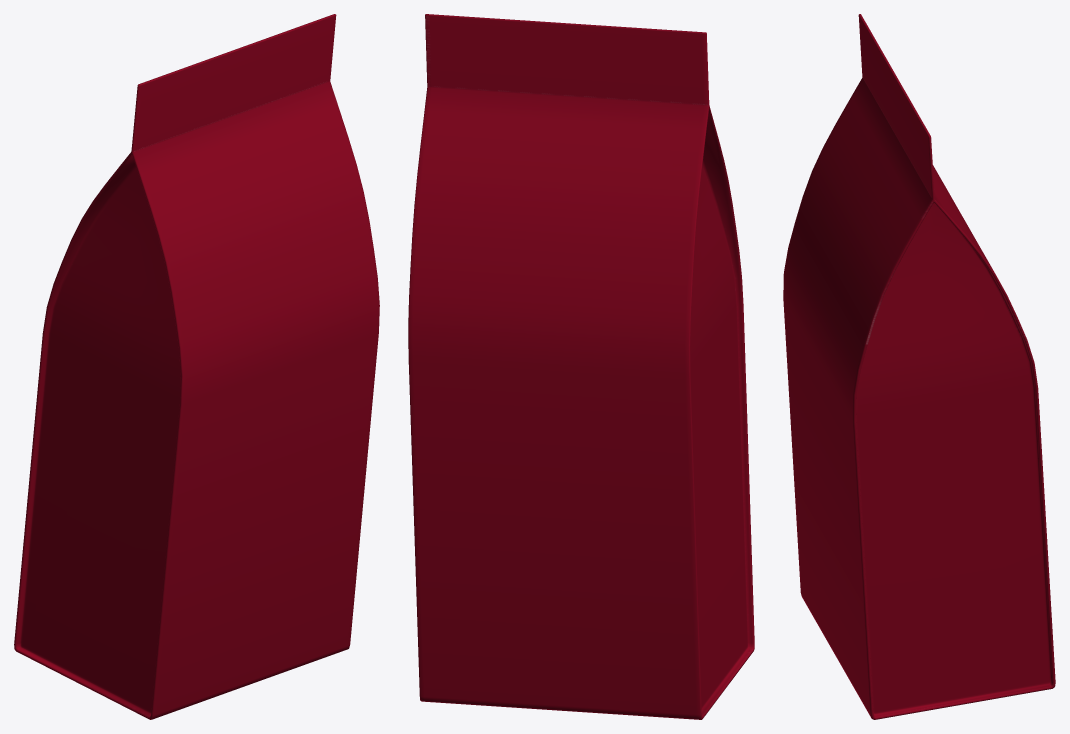
Rendered from JacobsBeans_CarteNoire_Pack230.glb.
3 renders of one model, left to right at view 1: azimuth 30°, elevation 25°; view 2: azimuth 150°, elevation 25°; view 3: azimuth 270°, elevation 25°, orthographic. The views are drawn at different scales.
Visible parts, largest first — view 1: mesh_id5; view 2: mesh_id5; view 3: mesh_id5.
Part boxes in pixels (left/top/right/bottom): mesh_id5: left=14, top=14, right=379, bottom=719; mesh_id5: left=408, top=14, right=754, bottom=719; mesh_id5: left=783, top=14, right=1055, bottom=719.
Bounding box in the file's own units: 0.2638 × 0.5257 × 0.2148.
1 material, 1 textured.
